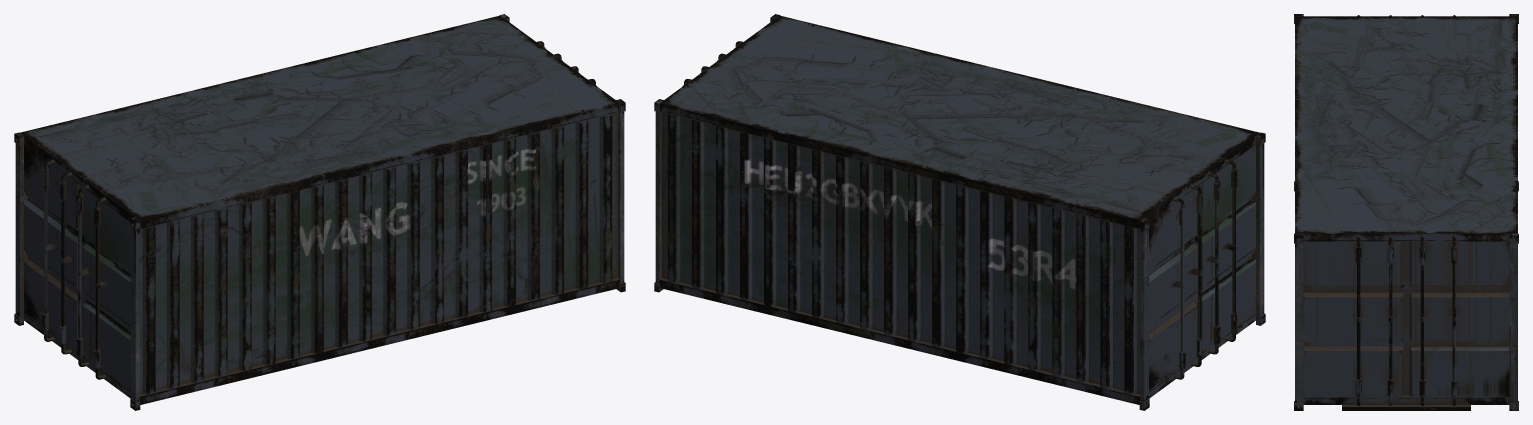
The model's file is Cargo_Container_Mesh.dae.
3 views of the same model, side by side, from view 1: azimuth 30°, elevation 25°; view 2: azimuth 150°, elevation 25°; view 3: azimuth 270°, elevation 25° (orthographic). The views are drawn at different scales.
Visible parts, largest first — view 1: Cargo_Container_Mesh, Cargo_Container_Back_Mesh, Cargo_Container_Pole_Mesh, Cargo_Container_Pipes_Mesh; view 2: Cargo_Container_Mesh, Cargo_Container_Back_Mesh, Cargo_Container_Pole_Mesh, Cargo_Container_Pipes_Mesh; view 3: Cargo_Container_Mesh, Cargo_Container_Back_Mesh, Cargo_Container_Pole_Mesh, Cargo_Container_Pipes_Mesh, Cargo_Container_Rings_Mesh.
Boxes of the visible parts, box(x1,y1,x2,y2) form: Cargo_Container_Mesh: box(20, 15, 620, 404); Cargo_Container_Back_Mesh: box(24, 145, 130, 389); Cargo_Container_Pole_Mesh: box(14, 14, 625, 410); Cargo_Container_Pipes_Mesh: box(42, 41, 595, 379); Cargo_Container_Mesh: box(659, 15, 1259, 404); Cargo_Container_Back_Mesh: box(1149, 145, 1255, 389); Cargo_Container_Pole_Mesh: box(654, 14, 1265, 410); Cargo_Container_Pipes_Mesh: box(683, 41, 1237, 379); Cargo_Container_Mesh: box(1295, 16, 1517, 410); Cargo_Container_Back_Mesh: box(1303, 241, 1509, 396); Cargo_Container_Pole_Mesh: box(1294, 14, 1518, 410); Cargo_Container_Pipes_Mesh: box(1355, 15, 1457, 405); Cargo_Container_Rings_Mesh: box(1352, 313, 1460, 321).
Size of the model in its own units: 6.27 by 2.62 by 2.25.
Materials: 5 (5 with a texture image).
